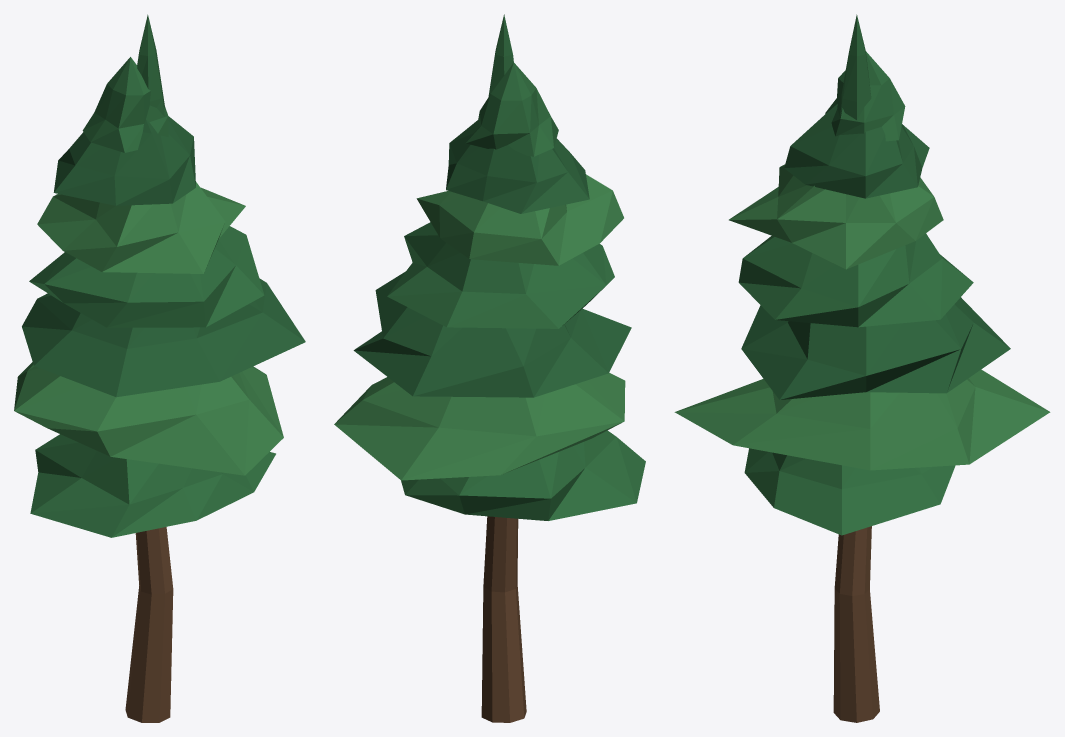
Rendered from TREE_04.obj.
3 renders of one model, left to right at view 1: azimuth 30°, elevation 25°; view 2: azimuth 150°, elevation 25°; view 3: azimuth 270°, elevation 25°, orthographic.
Parts seen in each view (by area): view 1: foliage, trunk; view 2: foliage, trunk; view 3: foliage, trunk.
Part boxes in pixels (x1,y1,x2,y2): foliage: (14, 14, 305, 537); trunk: (125, 527, 173, 722); foliage: (334, 14, 645, 520); trunk: (481, 516, 526, 722); foliage: (674, 14, 1050, 535); trunk: (833, 526, 879, 722).
Bounding box in the file's own units: 6.27 × 16.63 × 8.11.
